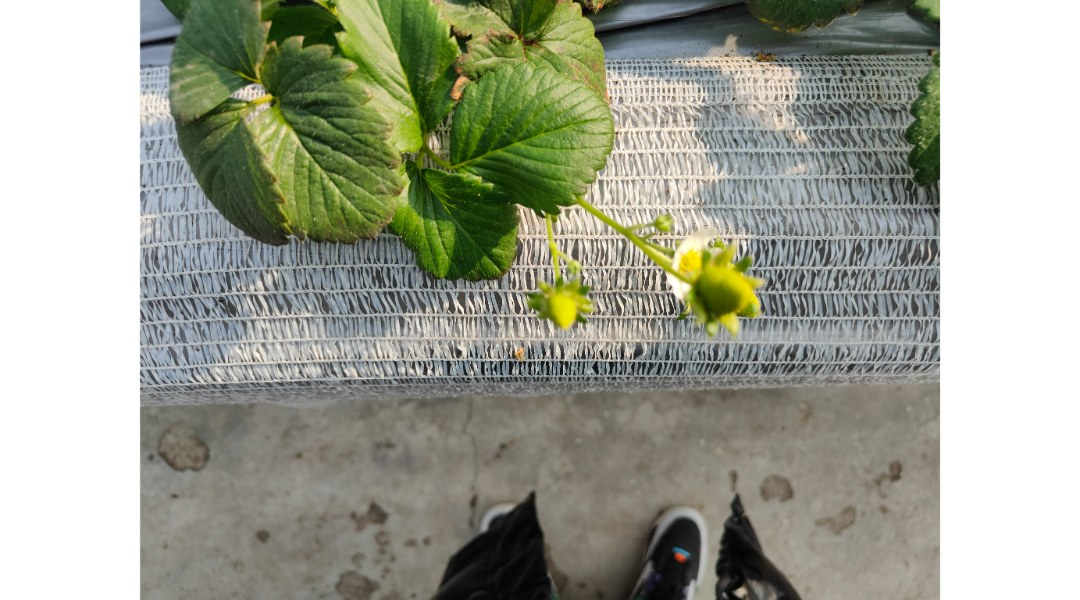berry: (680, 246, 769, 337), (521, 263, 609, 346), (651, 207, 679, 238)
strain: (562, 193, 622, 226), (539, 217, 563, 277)
